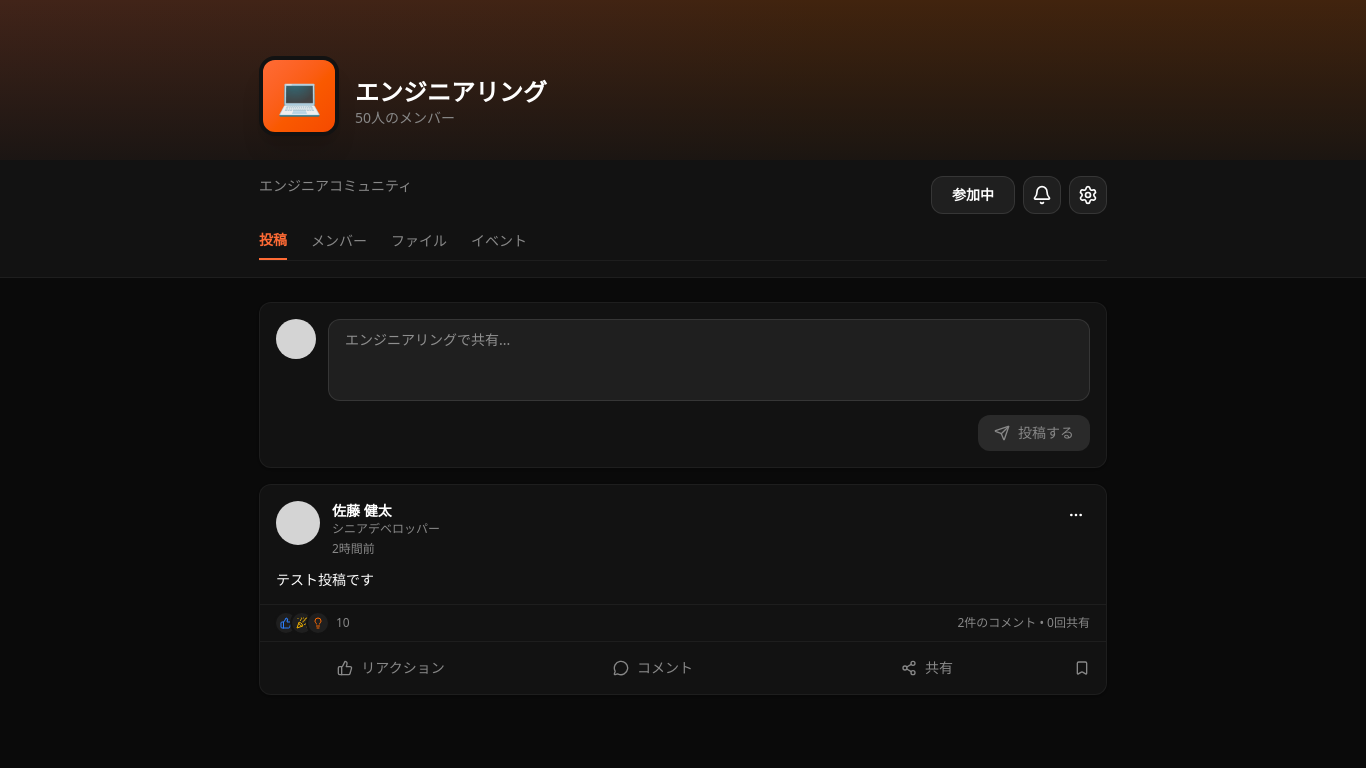
Scenario: Profiles / CommentMetadata › should display author name, role, and avatar on comments
The image size is (1366, 768).
# Expand comments
Click the button "コメント".
click(653, 668)  # box top-left (518, 650), bottom-right (788, 686)
(page scrolled)
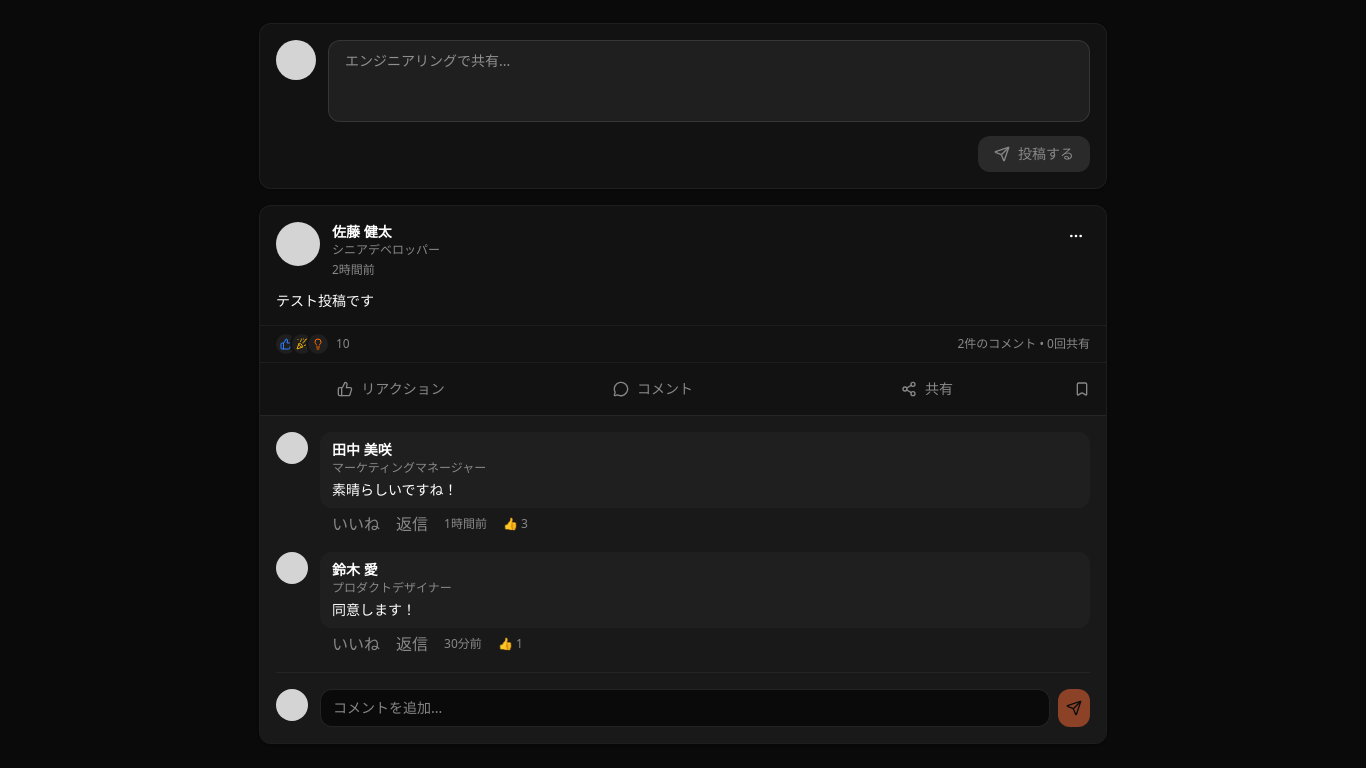
Result: the heading "田中 美咲" is shown at top-left (332, 440), bottom-right (392, 459)
Result: the text "マーケティングマネージャー" is shown at top-left (332, 459), bottom-right (486, 476)
Result: the heading "鈴木 愛" is shown at top-left (332, 560), bottom-right (378, 579)
